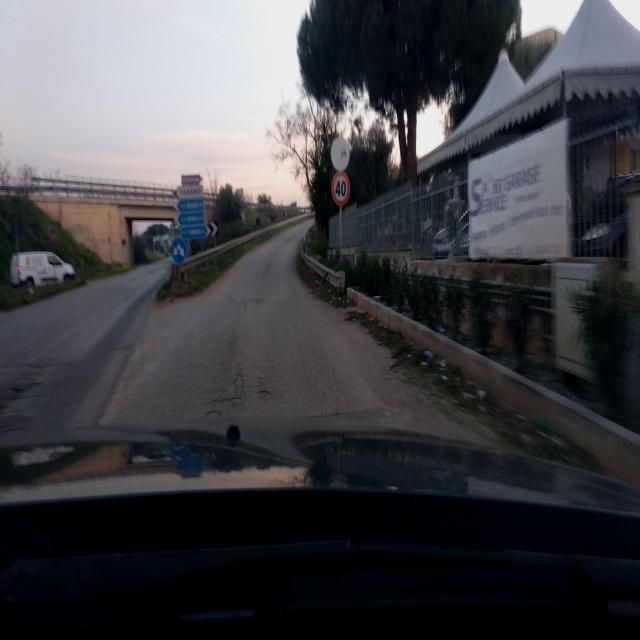car: (10, 249, 76, 289)
